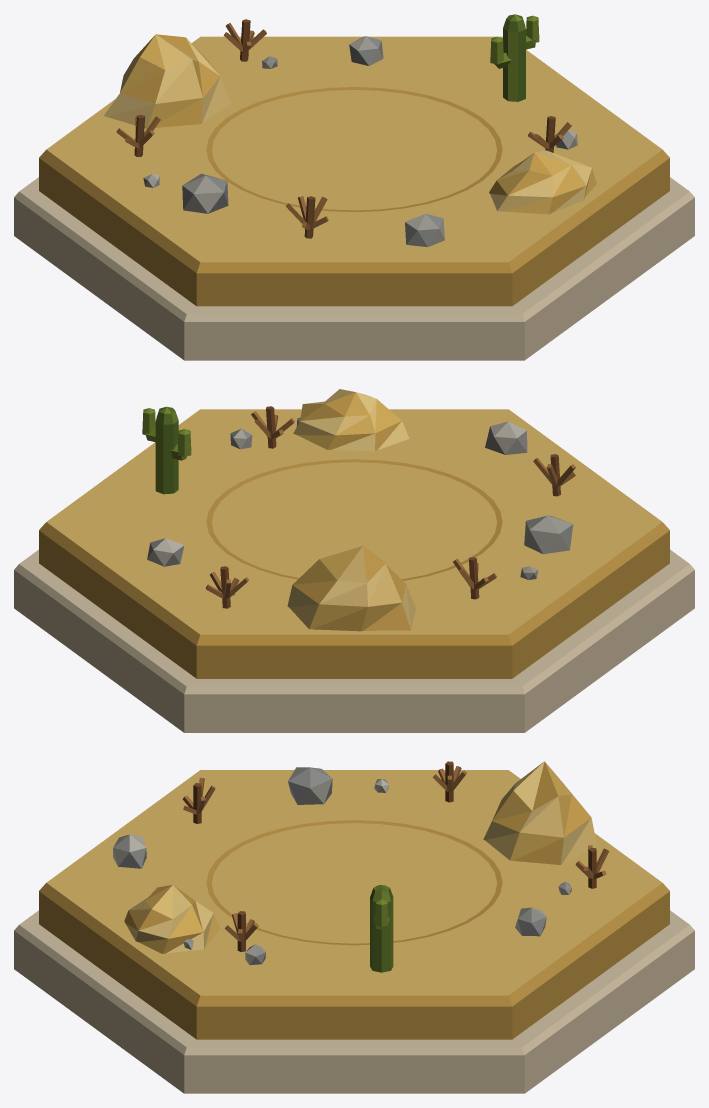
The model's file is hex_desert.glb.
The picture shows the model from 3 angles, top to bottom: view 1: azimuth 30°, elevation 25°; view 2: azimuth 150°, elevation 25°; view 3: azimuth 270°, elevation 25°; orthographic projection.
Visible parts, largest first — view 1: hex_desert; view 2: hex_desert; view 3: hex_desert.
Part boxes in pixels (<box>): hex_desert: <box>14,14,694,360</box>; hex_desert: <box>14,389,694,732</box>; hex_desert: <box>14,761,694,1093</box>.
Bounding box in the file's own units: 1.73 × 0.548 × 2.
